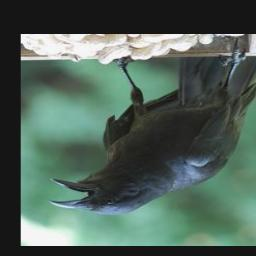Crow: (49, 38, 256, 216)
